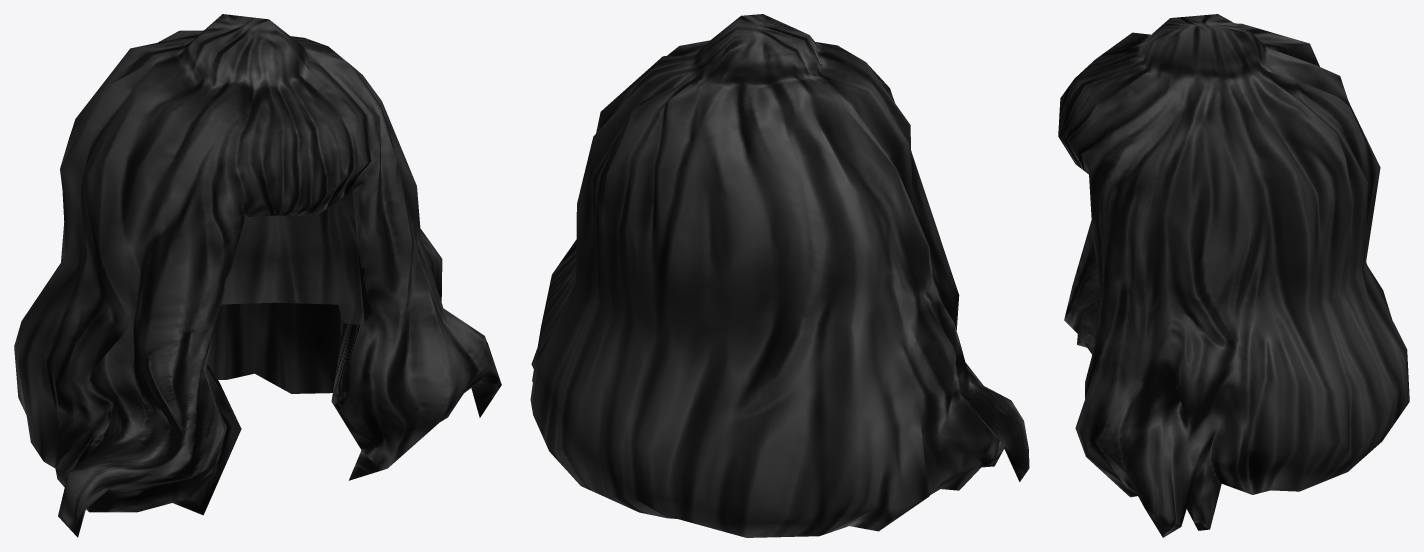
Rendered from AF_M_hair_G_14.fbx.
3 renders of one model, left to right at view 1: azimuth 30°, elevation 25°; view 2: azimuth 150°, elevation 25°; view 3: azimuth 270°, elevation 25°, orthographic. The views are drawn at different scales.
Visible parts, largest first — view 1: AF_M_hair_G_14; view 2: AF_M_hair_G_14; view 3: AF_M_hair_G_14.
Boxes of the visible parts, x1,y1,x2,y2 form: AF_M_hair_G_14: [14, 14, 501, 537]; AF_M_hair_G_14: [530, 14, 1029, 537]; AF_M_hair_G_14: [1058, 14, 1409, 537].
Bounding box in the file's own units: 1237 × 1161 × 844.
